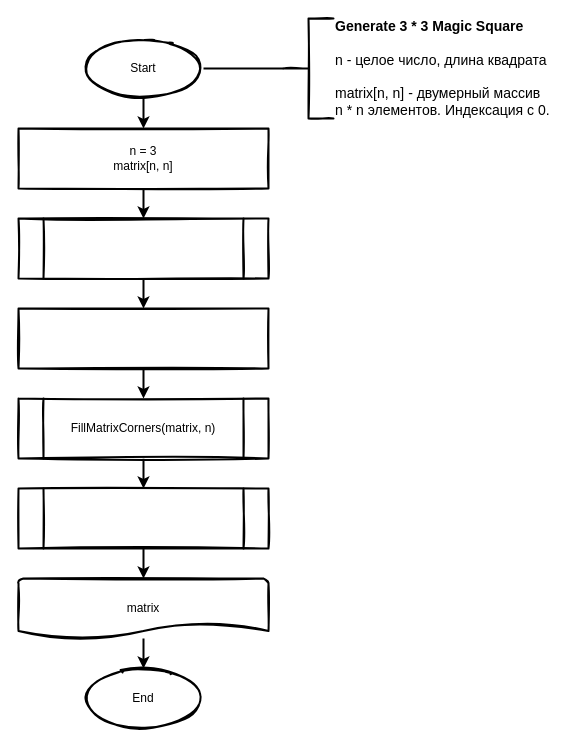
Image size: 567x746. Some labels were removed from this diagram. The centre of each missing label's shape, as x and y in pixels:
FillEmptyCells(matrix): (x=143, y=518)
magicNumber <- MagicNumber(3): (x=143, y=248)
matrix[1, 1] <- magicNumber / n: (x=143, y=338)
